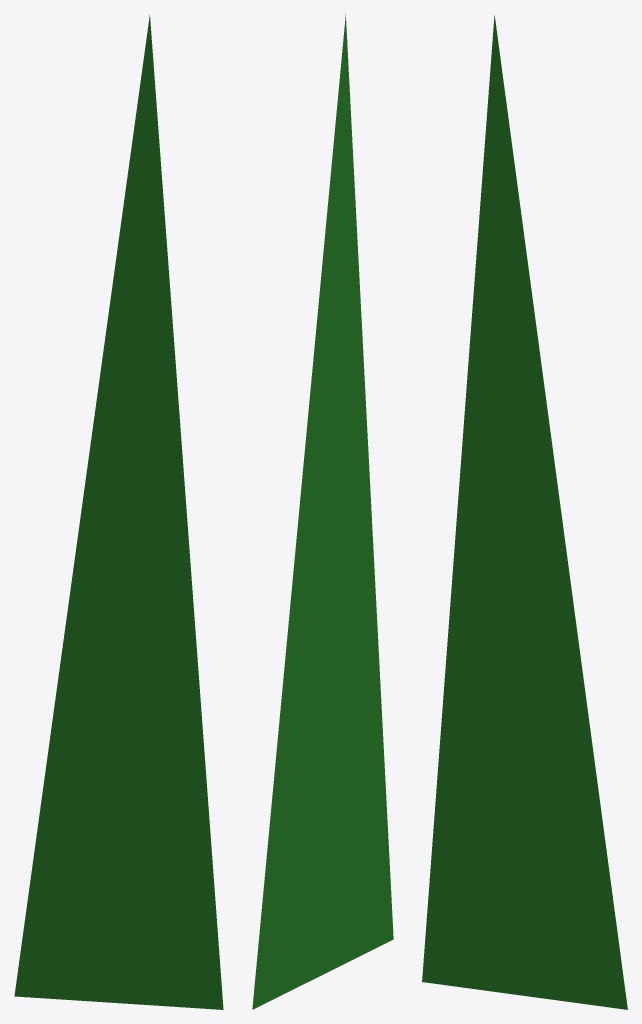
Rendered from grass_blade_A.fbx.
3 views of the same model, side by side, from view 1: azimuth 90°, elevation 25°; view 2: azimuth 150°, elevation 25°; view 3: azimuth 270°, elevation 25° (orthographic). The views are drawn at different scales.
Parts seen in each view (by area): view 1: grass_blade_A; view 2: grass_blade_A; view 3: grass_blade_A.
Boxes of the visible parts, x1,y1,x2,y2 form: grass_blade_A: (14,15,223,1009); grass_blade_A: (252,14,393,1009); grass_blade_A: (422,15,627,1009).
Size of the model in its own units: 1.88 by 41.73 by 7.93.
